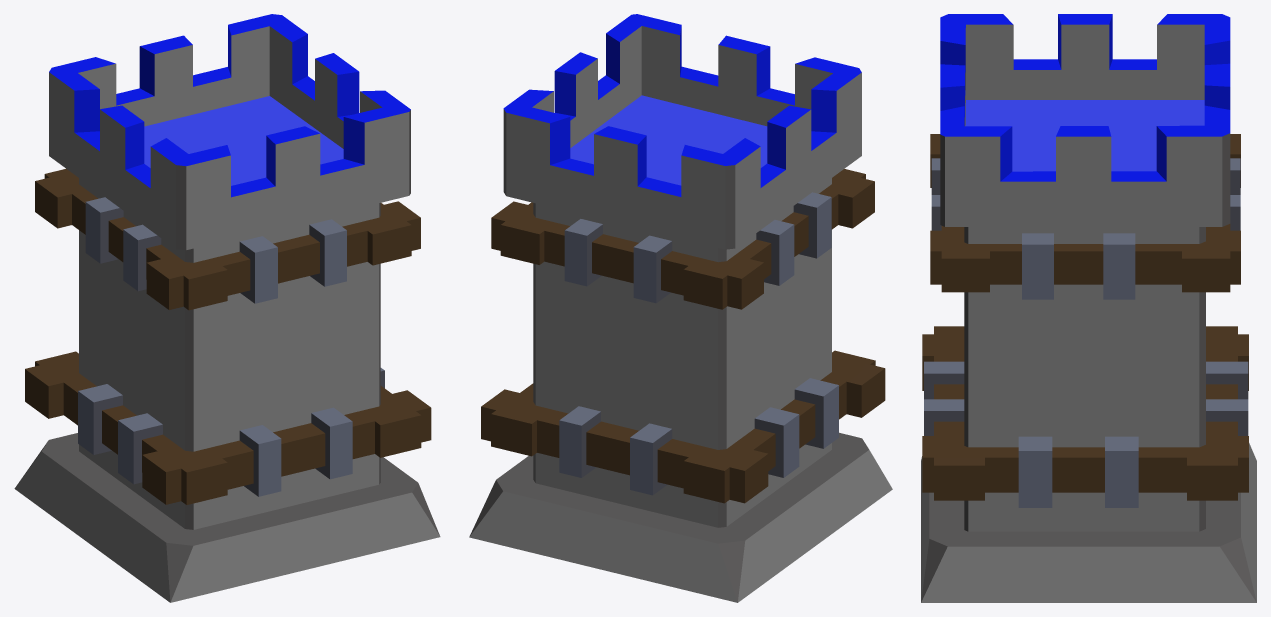
File: Tower6.fbx
The picture shows the model from 3 angles, left to right: view 1: azimuth 30°, elevation 25°; view 2: azimuth 150°, elevation 25°; view 3: azimuth 270°, elevation 25°; orthographic projection. The views are drawn at different scales.
Parts seen in each view (by area): view 1: Tower6; view 2: Tower6; view 3: Tower6.
Boxes of the visible parts, x1,y1,x2,y2 form: Tower6: (14, 14, 440, 602); Tower6: (469, 14, 892, 602); Tower6: (921, 14, 1256, 602).
Bounding box in the file's own units: 400 × 600 × 400.
